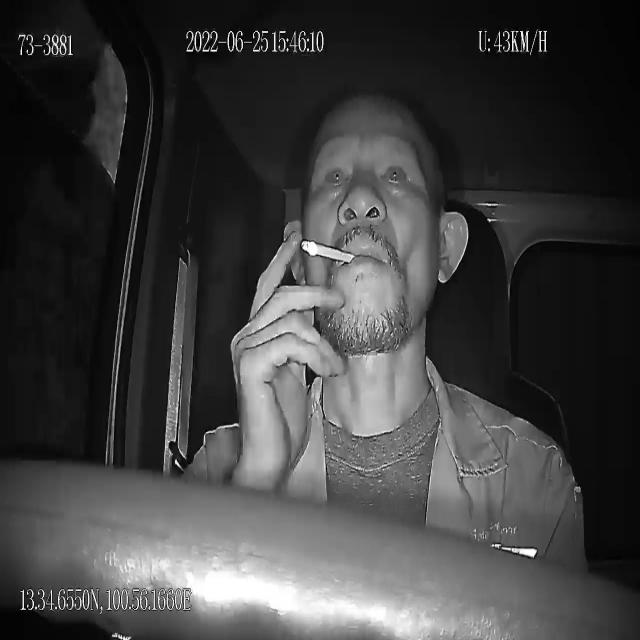Cigarette: (302, 238, 354, 266)
